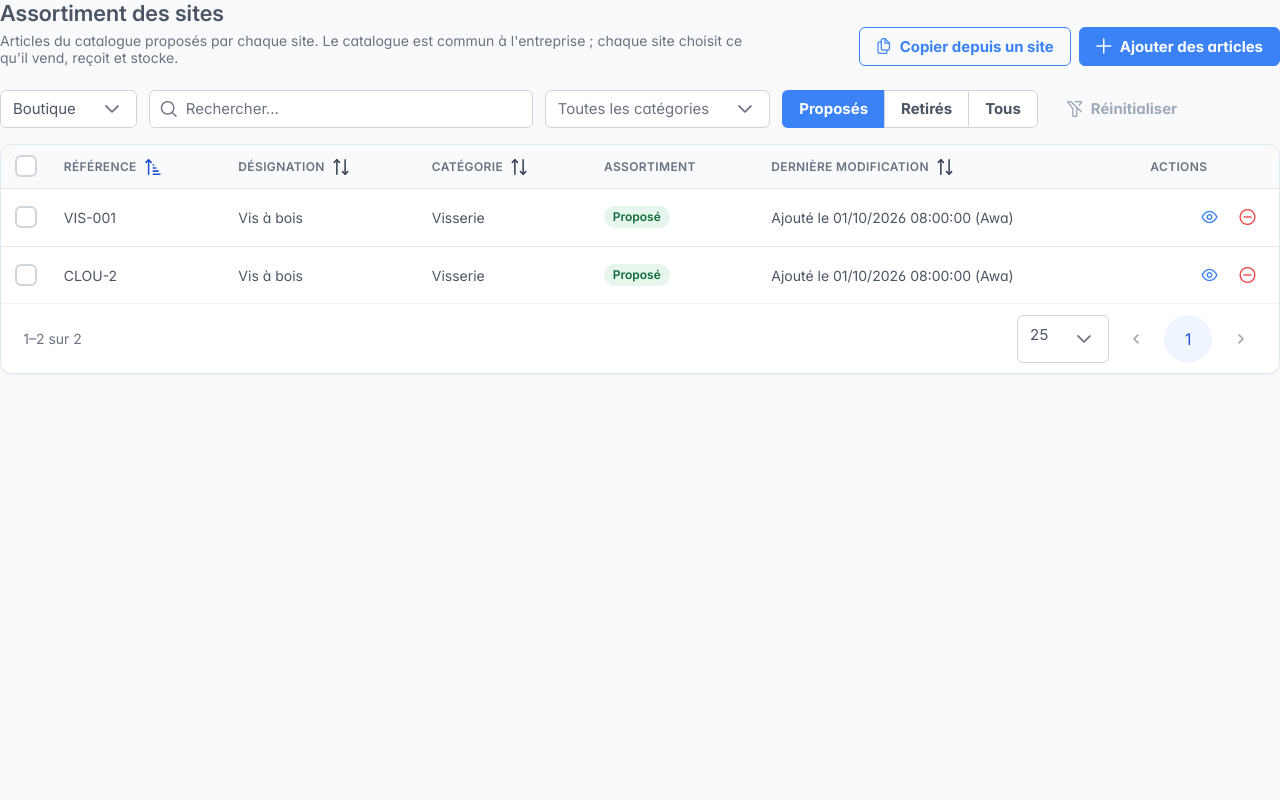
Scenario: assortiment par site (palier 3) › retrait refusé : chaque article bloquant et sa raison, jamais le message générique
The image size is (1280, 800).
Expected: the text "VIS-001" is shown, [50,189,225,247]
Click the checkbox named "Row Selected a1".
click(26, 217)  # box [15,206,37,228]
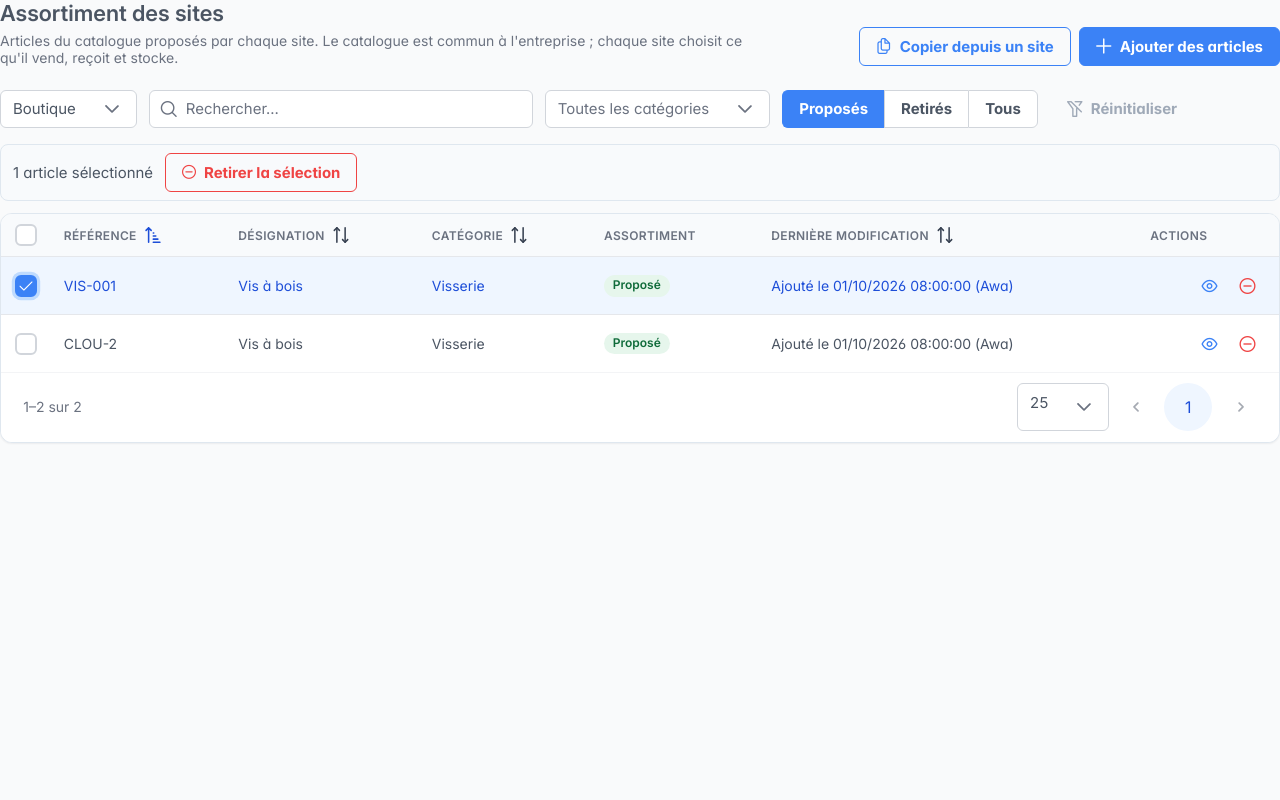
Click the checkbox named "Row Selected a2".
click(26, 344)  # box [15,333,37,355]
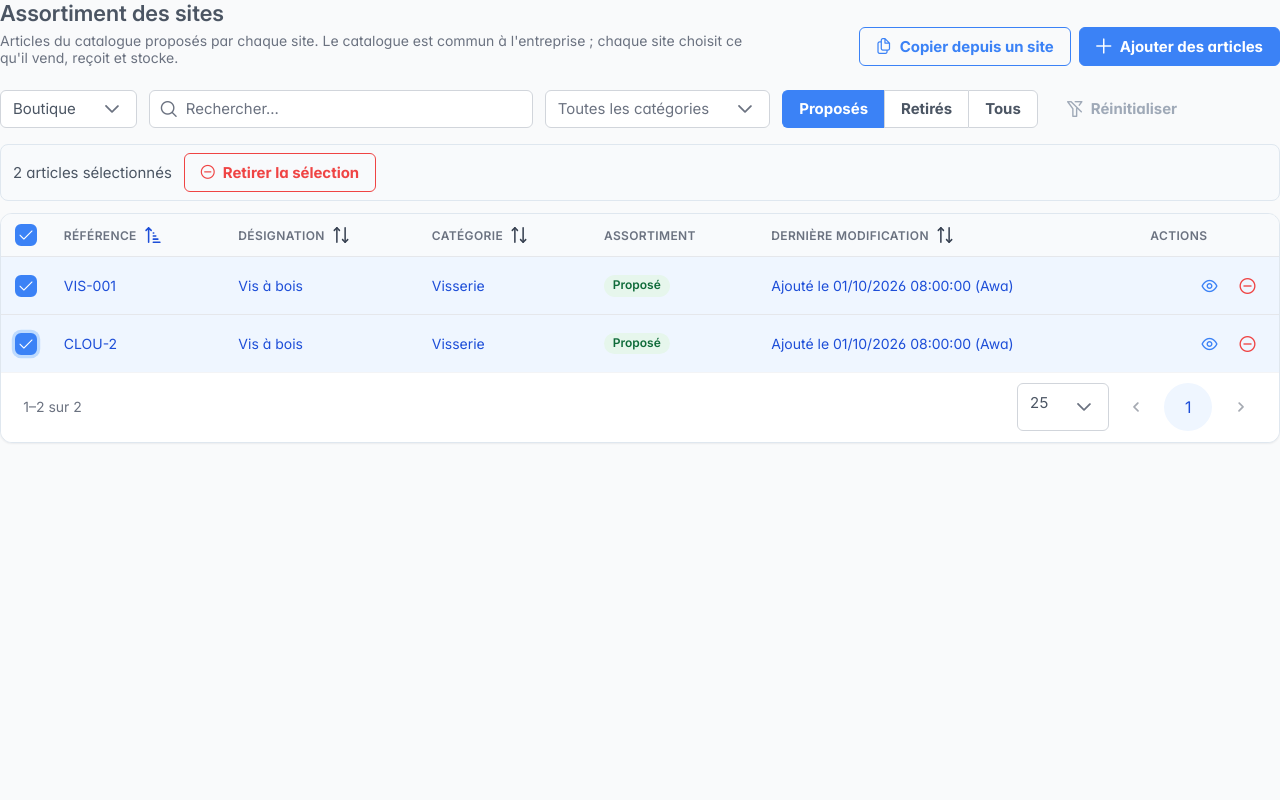
Now the text "2 articles sélectionnés" is shown, box [13,163,172,182]
Click the button "Retirer la sélection".
click(280, 172)  # box [184,153,376,192]
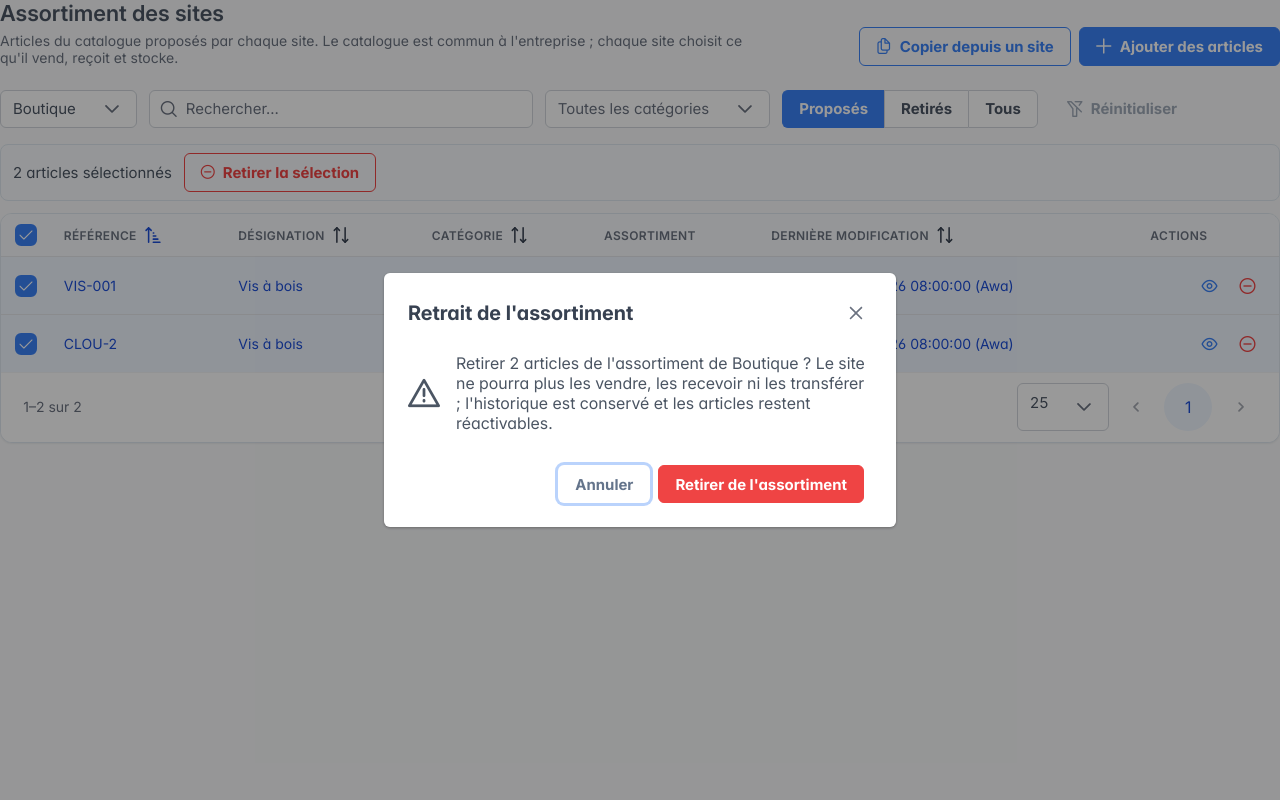
Now the dialog is shown, box [384,273,896,527]
Click the button "Retirer de l'assortiment".
click(761, 484)  # box [658,465,864,503]
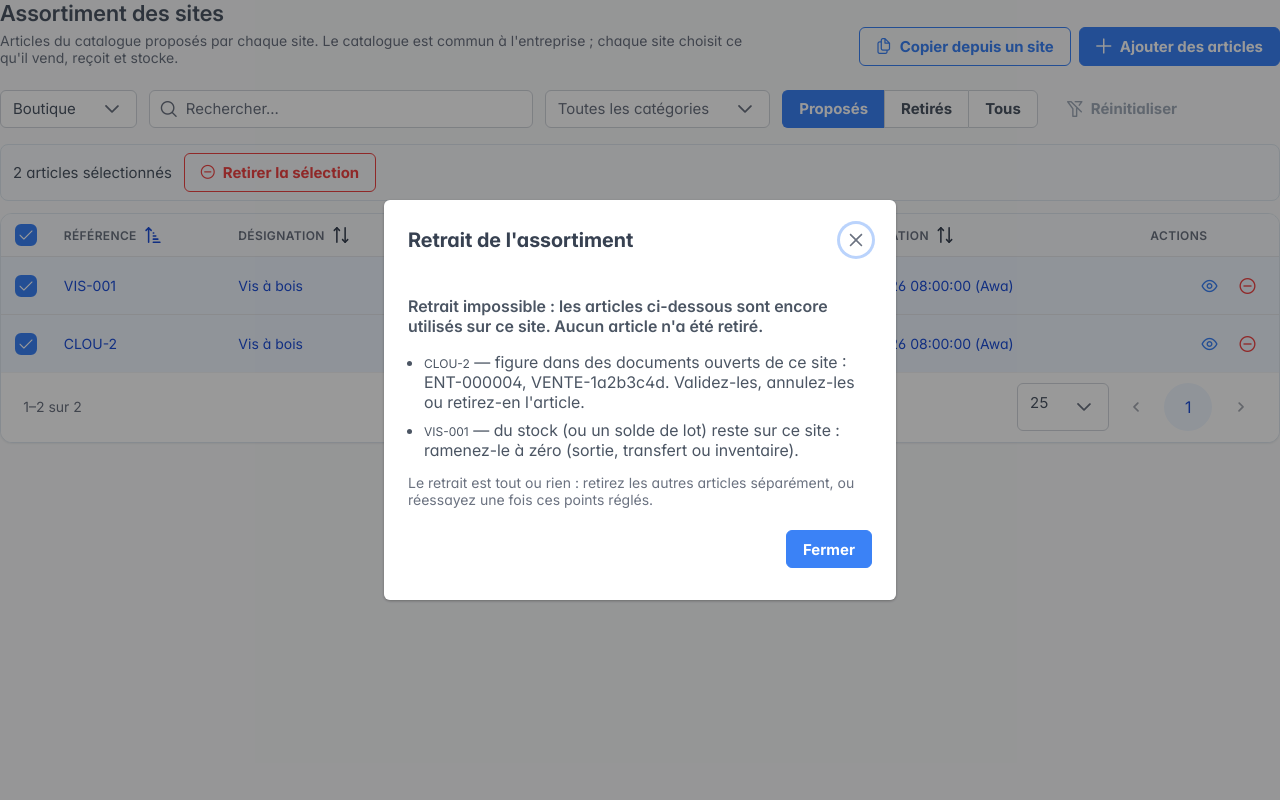
Now the text "Aucun article n'a été retiré" is shown, box [408,296,828,336]
Now the list item that starts with "CLOU-2" is shown, box [424,356,470,371]
Now the list item that starts with "CLOU-2" shows "ENT-000004, VENTE-1a2b3c4d", box [424,352,855,412]
